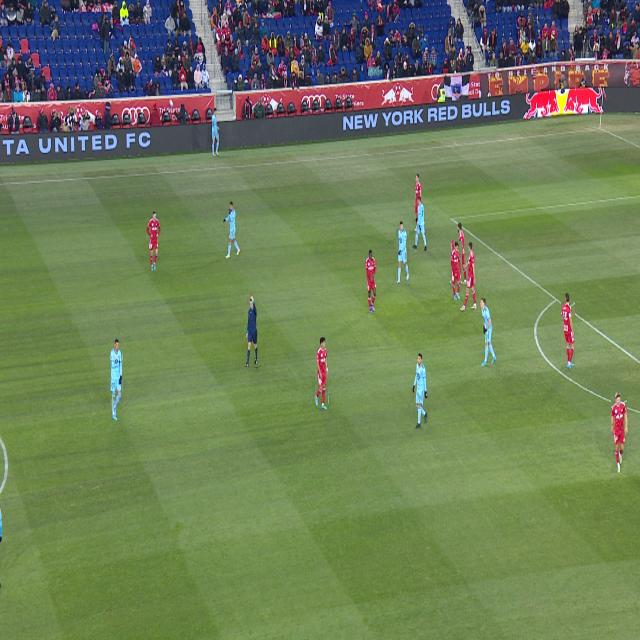player: (612, 392, 627, 473), (460, 241, 477, 311), (480, 297, 497, 367), (413, 353, 428, 429), (562, 293, 575, 370), (223, 201, 240, 258), (111, 339, 122, 420), (316, 337, 328, 410), (412, 196, 427, 251), (396, 221, 409, 284), (147, 211, 160, 271), (451, 241, 462, 300), (457, 222, 467, 285), (366, 250, 376, 313), (414, 174, 422, 232), (449, 280, 452, 285)
referee: (245, 296, 258, 367)
